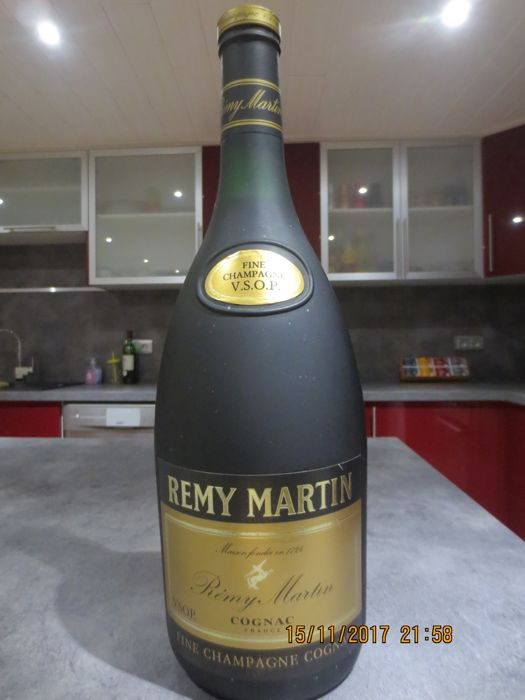Remy martin: (134, 3, 394, 700)
